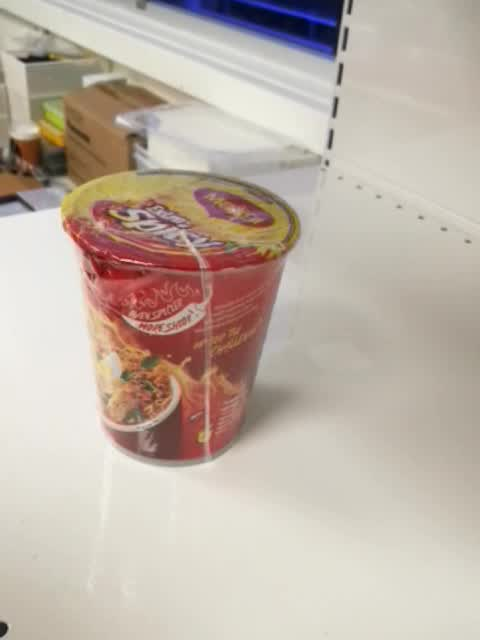maggi: (60, 169, 302, 469)
